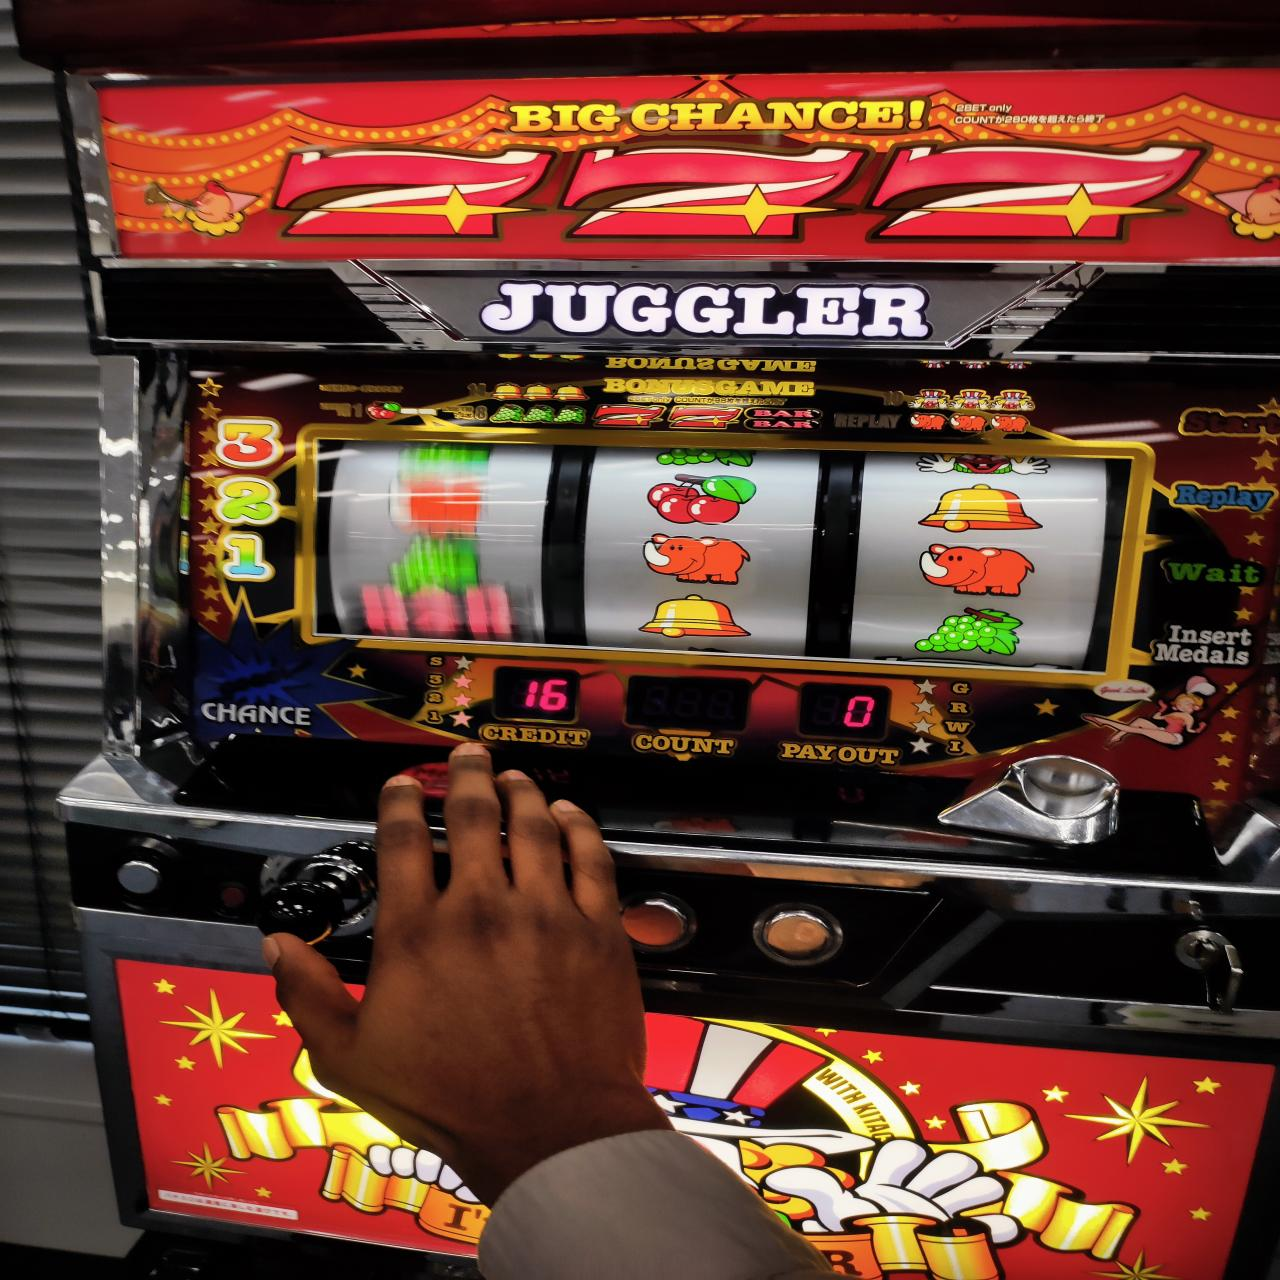8: (919, 544, 1039, 597), (640, 533, 750, 584)
bell: (920, 483, 1042, 535), (641, 594, 751, 642)
cherry: (644, 474, 756, 523)
grape: (914, 602, 1030, 656)
rhino: (302, 428, 1124, 674)
